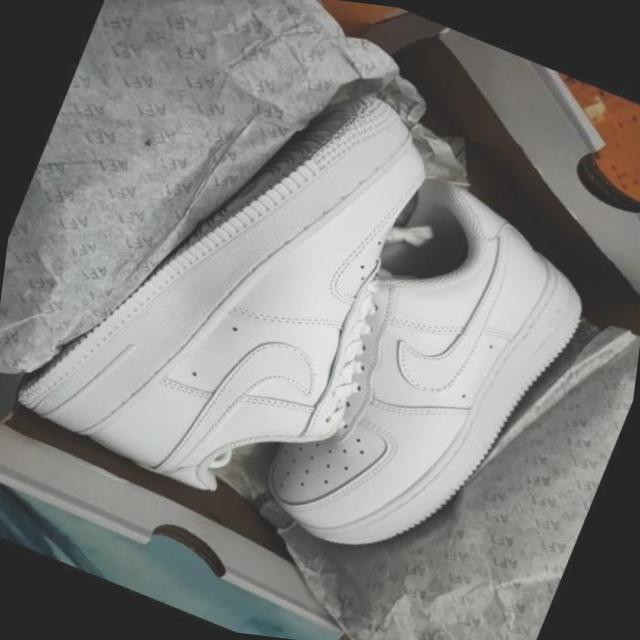nike_original_airforce: (0, 0, 479, 549), (239, 142, 622, 610)
